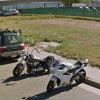Motorcycle: (12, 46, 91, 95)
